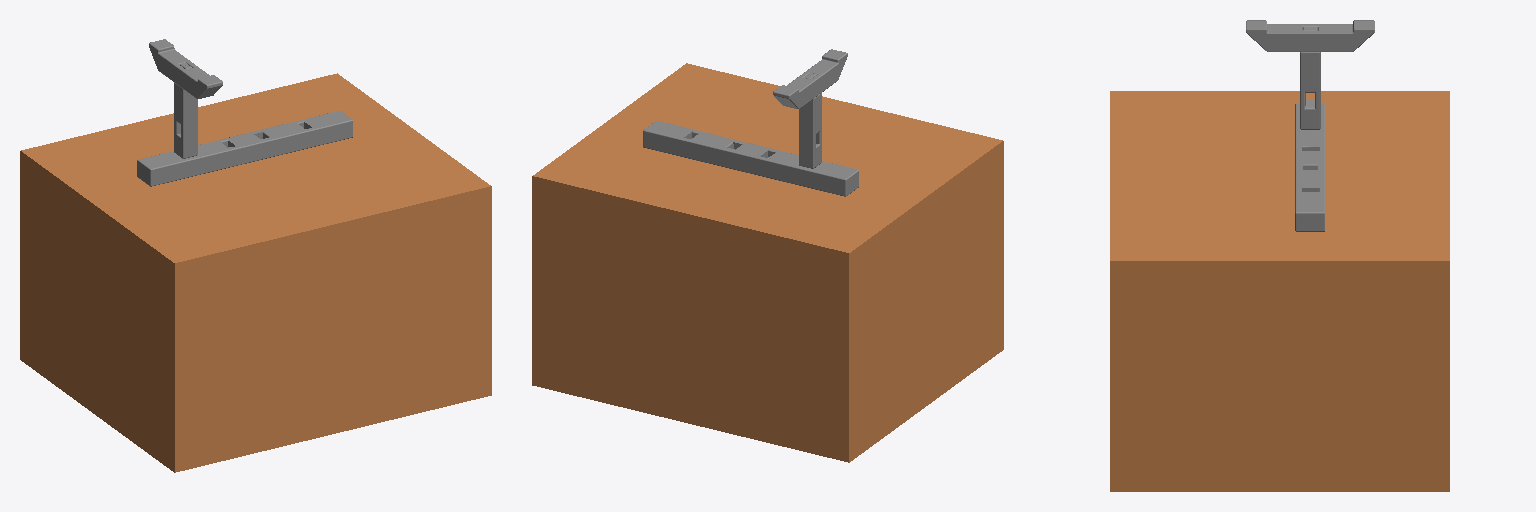
robot.urdf — table_beam_2x_3_scene_0057:
<?xml version="1.0"?>
<robot name="table_beam_2x_3_scene_0057">
  <link name="box">
    <visual>
      <material name="wood"><color rgba="0.82 0.56 0.35 1.0"/></material>
      <origin xyz="0 0 0"/>
      <geometry><box size="0.475 0.4 0.3"/></geometry>
    </visual>
    <collision>
      <origin xyz="0 0 0"/>
      <geometry><box size="0.475 0.4 0.3"/></geometry>
    </collision>
    <inertial>
      <mass value="500"/>
      <friction value="1.0"/>
      <inertia ixx="1000.0" ixy="0.0" ixz="0.0" iyy="1000.0" iyz="0.0" izz="1000.0"/>
    </inertial>
  </link>
  <link name="part_6_hull_0">
    <visual>
      <origin xyz="0 0 0" rpy="0 0 0"/>
      <geometry><mesh filename="../../6/coacd/decomp_0.obj" scale="1 1 1"/></geometry>
      <material name="placed_0"><color rgba="0.6 0.6 0.6 1.0"/></material>
    </visual>
    <collision>
      <origin xyz="0 0 0" rpy="0 0 0"/>
      <geometry><mesh filename="../../6/coacd/decomp_0.obj" scale="1 1 1"/></geometry>
    </collision>
  </link>
  <joint name="part_6_hull_0_joint" type="fixed">
    <parent link="box"/>
    <child link="part_6_hull_0"/>
    <origin xyz="0.004674 0.035777 0.162666" rpy="0.000000 0.000000 0.000000"/>
  </joint>
  <link name="part_6_hull_1">
    <visual>
      <origin xyz="0 0 0" rpy="0 0 0"/>
      <geometry><mesh filename="../../6/coacd/decomp_1.obj" scale="1 1 1"/></geometry>
      <material name="placed_1"><color rgba="0.6 0.6 0.6 1.0"/></material>
    </visual>
    <collision>
      <origin xyz="0 0 0" rpy="0 0 0"/>
      <geometry><mesh filename="../../6/coacd/decomp_1.obj" scale="1 1 1"/></geometry>
    </collision>
  </link>
  <joint name="part_6_hull_1_joint" type="fixed">
    <parent link="box"/>
    <child link="part_6_hull_1"/>
    <origin xyz="0.004674 0.035777 0.162666" rpy="0.000000 0.000000 0.000000"/>
  </joint>
  <link name="part_6_hull_2">
    <visual>
      <origin xyz="0 0 0" rpy="0 0 0"/>
      <geometry><mesh filename="../../6/coacd/decomp_10.obj" scale="1 1 1"/></geometry>
      <material name="placed_2"><color rgba="0.6 0.6 0.6 1.0"/></material>
    </visual>
    <collision>
      <origin xyz="0 0 0" rpy="0 0 0"/>
      <geometry><mesh filename="../../6/coacd/decomp_10.obj" scale="1 1 1"/></geometry>
    </collision>
  </link>
  <joint name="part_6_hull_2_joint" type="fixed">
    <parent link="box"/>
    <child link="part_6_hull_2"/>
    <origin xyz="0.004674 0.035777 0.162666" rpy="0.000000 0.000000 0.000000"/>
  </joint>
  <link name="part_6_hull_3">
    <visual>
      <origin xyz="0 0 0" rpy="0 0 0"/>
      <geometry><mesh filename="../../6/coacd/decomp_11.obj" scale="1 1 1"/></geometry>
      <material name="placed_3"><color rgba="0.6 0.6 0.6 1.0"/></material>
    </visual>
    <collision>
      <origin xyz="0 0 0" rpy="0 0 0"/>
      <geometry><mesh filename="../../6/coacd/decomp_11.obj" scale="1 1 1"/></geometry>
    </collision>
  </link>
  <joint name="part_6_hull_3_joint" type="fixed">
    <parent link="box"/>
    <child link="part_6_hull_3"/>
    <origin xyz="0.004674 0.035777 0.162666" rpy="0.000000 0.000000 0.000000"/>
  </joint>
  <link name="part_6_hull_4">
    <visual>
      <origin xyz="0 0 0" rpy="0 0 0"/>
      <geometry><mesh filename="../../6/coacd/decomp_12.obj" scale="1 1 1"/></geometry>
      <material name="placed_4"><color rgba="0.6 0.6 0.6 1.0"/></material>
    </visual>
    <collision>
      <origin xyz="0 0 0" rpy="0 0 0"/>
      <geometry><mesh filename="../../6/coacd/decomp_12.obj" scale="1 1 1"/></geometry>
    </collision>
  </link>
  <joint name="part_6_hull_4_joint" type="fixed">
    <parent link="box"/>
    <child link="part_6_hull_4"/>
    <origin xyz="0.004674 0.035777 0.162666" rpy="0.000000 0.000000 0.000000"/>
  </joint>
  <link name="part_6_hull_5">
    <visual>
      <origin xyz="0 0 0" rpy="0 0 0"/>
      <geometry><mesh filename="../../6/coacd/decomp_13.obj" scale="1 1 1"/></geometry>
      <material name="placed_5"><color rgba="0.6 0.6 0.6 1.0"/></material>
    </visual>
    <collision>
      <origin xyz="0 0 0" rpy="0 0 0"/>
      <geometry><mesh filename="../../6/coacd/decomp_13.obj" scale="1 1 1"/></geometry>
    </collision>
  </link>
  <joint name="part_6_hull_5_joint" type="fixed">
    <parent link="box"/>
    <child link="part_6_hull_5"/>
    <origin xyz="0.004674 0.035777 0.162666" rpy="0.000000 0.000000 0.000000"/>
  </joint>
  <link name="part_6_hull_6">
    <visual>
      <origin xyz="0 0 0" rpy="0 0 0"/>
      <geometry><mesh filename="../../6/coacd/decomp_2.obj" scale="1 1 1"/></geometry>
      <material name="placed_6"><color rgba="0.6 0.6 0.6 1.0"/></material>
    </visual>
    <collision>
      <origin xyz="0 0 0" rpy="0 0 0"/>
      <geometry><mesh filename="../../6/coacd/decomp_2.obj" scale="1 1 1"/></geometry>
    </collision>
  </link>
  <joint name="part_6_hull_6_joint" type="fixed">
    <parent link="box"/>
    <child link="part_6_hull_6"/>
    <origin xyz="0.004674 0.035777 0.162666" rpy="0.000000 0.000000 0.000000"/>
  </joint>
  <link name="part_6_hull_7">
    <visual>
      <origin xyz="0 0 0" rpy="0 0 0"/>
      <geometry><mesh filename="../../6/coacd/decomp_3.obj" scale="1 1 1"/></geometry>
      <material name="placed_7"><color rgba="0.6 0.6 0.6 1.0"/></material>
    </visual>
    <collision>
      <origin xyz="0 0 0" rpy="0 0 0"/>
      <geometry><mesh filename="../../6/coacd/decomp_3.obj" scale="1 1 1"/></geometry>
    </collision>
  </link>
  <joint name="part_6_hull_7_joint" type="fixed">
    <parent link="box"/>
    <child link="part_6_hull_7"/>
    <origin xyz="0.004674 0.035777 0.162666" rpy="0.000000 0.000000 0.000000"/>
  </joint>
  <link name="part_6_hull_8">
    <visual>
      <origin xyz="0 0 0" rpy="0 0 0"/>
      <geometry><mesh filename="../../6/coacd/decomp_4.obj" scale="1 1 1"/></geometry>
      <material name="placed_8"><color rgba="0.6 0.6 0.6 1.0"/></material>
    </visual>
    <collision>
      <origin xyz="0 0 0" rpy="0 0 0"/>
      <geometry><mesh filename="../../6/coacd/decomp_4.obj" scale="1 1 1"/></geometry>
    </collision>
  </link>
  <joint name="part_6_hull_8_joint" type="fixed">
    <parent link="box"/>
    <child link="part_6_hull_8"/>
    <origin xyz="0.004674 0.035777 0.162666" rpy="0.000000 0.000000 0.000000"/>
  </joint>
  <link name="part_6_hull_9">
    <visual>
      <origin xyz="0 0 0" rpy="0 0 0"/>
      <geometry><mesh filename="../../6/coacd/decomp_5.obj" scale="1 1 1"/></geometry>
      <material name="placed_9"><color rgba="0.6 0.6 0.6 1.0"/></material>
    </visual>
    <collision>
      <origin xyz="0 0 0" rpy="0 0 0"/>
      <geometry><mesh filename="../../6/coacd/decomp_5.obj" scale="1 1 1"/></geometry>
    </collision>
  </link>
  <joint name="part_6_hull_9_joint" type="fixed">
    <parent link="box"/>
    <child link="part_6_hull_9"/>
    <origin xyz="0.004674 0.035777 0.162666" rpy="0.000000 0.000000 0.000000"/>
  </joint>
  <link name="part_6_hull_10">
    <visual>
      <origin xyz="0 0 0" rpy="0 0 0"/>
      <geometry><mesh filename="../../6/coacd/decomp_6.obj" scale="1 1 1"/></geometry>
      <material name="placed_10"><color rgba="0.6 0.6 0.6 1.0"/></material>
    </visual>
    <collision>
      <origin xyz="0 0 0" rpy="0 0 0"/>
      <geometry><mesh filename="../../6/coacd/decomp_6.obj" scale="1 1 1"/></geometry>
    </collision>
  </link>
  <joint name="part_6_hull_10_joint" type="fixed">
    <parent link="box"/>
    <child link="part_6_hull_10"/>
    <origin xyz="0.004674 0.035777 0.162666" rpy="0.000000 0.000000 0.000000"/>
  </joint>
  <link name="part_6_hull_11">
    <visual>
      <origin xyz="0 0 0" rpy="0 0 0"/>
      <geometry><mesh filename="../../6/coacd/decomp_7.obj" scale="1 1 1"/></geometry>
      <material name="placed_11"><color rgba="0.6 0.6 0.6 1.0"/></material>
    </visual>
    <collision>
      <origin xyz="0 0 0" rpy="0 0 0"/>
      <geometry><mesh filename="../../6/coacd/decomp_7.obj" scale="1 1 1"/></geometry>
    </collision>
  </link>
  <joint name="part_6_hull_11_joint" type="fixed">
    <parent link="box"/>
    <child link="part_6_hull_11"/>
    <origin xyz="0.004674 0.035777 0.162666" rpy="0.000000 0.000000 0.000000"/>
  </joint>
  <link name="part_6_hull_12">
    <visual>
      <origin xyz="0 0 0" rpy="0 0 0"/>
      <geometry><mesh filename="../../6/coacd/decomp_8.obj" scale="1 1 1"/></geometry>
      <material name="placed_12"><color rgba="0.6 0.6 0.6 1.0"/></material>
    </visual>
    <collision>
      <origin xyz="0 0 0" rpy="0 0 0"/>
      <geometry><mesh filename="../../6/coacd/decomp_8.obj" scale="1 1 1"/></geometry>
    </collision>
  </link>
  <joint name="part_6_hull_12_joint" type="fixed">
    <parent link="box"/>
    <child link="part_6_hull_12"/>
    <origin xyz="0.004674 0.035777 0.162666" rpy="0.000000 0.000000 0.000000"/>
  </joint>
  <link name="part_6_hull_13">
    <visual>
      <origin xyz="0 0 0" rpy="0 0 0"/>
      <geometry><mesh filename="../../6/coacd/decomp_9.obj" scale="1 1 1"/></geometry>
      <material name="placed_13"><color rgba="0.6 0.6 0.6 1.0"/></material>
    </visual>
    <collision>
      <origin xyz="0 0 0" rpy="0 0 0"/>
      <geometry><mesh filename="../../6/coacd/decomp_9.obj" scale="1 1 1"/></geometry>
    </collision>
  </link>
  <joint name="part_6_hull_13_joint" type="fixed">
    <parent link="box"/>
    <child link="part_6_hull_13"/>
    <origin xyz="0.004674 0.035777 0.162666" rpy="0.000000 0.000000 0.000000"/>
  </joint>
  <link name="part_2_canonical">
    <visual>
      <origin xyz="0 0 0" rpy="0 0 0"/>
      <geometry><mesh filename="../../2/2_canonical.obj" scale="1 1 1"/></geometry>
      <material name="placed_14"><color rgba="0.6 0.6 0.6 1.0"/></material>
    </visual>
    <collision>
      <origin xyz="0 0 0" rpy="0 0 0"/>
      <geometry><mesh filename="../../2/2_canonical.obj" scale="1 1 1"/></geometry>
    </collision>
  </link>
  <joint name="part_2_canonical_joint" type="fixed">
    <parent link="box"/>
    <child link="part_2_canonical"/>
    <origin xyz="-0.084253 0.035777 0.225384" rpy="0.000000 -1.570796 0.000000"/>
  </joint>
  <link name="part_0_canonical">
    <visual>
      <origin xyz="0 0 0" rpy="0 0 0"/>
      <geometry><mesh filename="../../0/0_canonical.obj" scale="1 1 1"/></geometry>
      <material name="placed_15"><color rgba="0.6 0.6 0.6 1.0"/></material>
    </visual>
    <collision>
      <origin xyz="0 0 0" rpy="0 0 0"/>
      <geometry><mesh filename="../../0/0_canonical.obj" scale="1 1 1"/></geometry>
    </collision>
  </link>
  <joint name="part_0_canonical_joint" type="fixed">
    <parent link="box"/>
    <child link="part_0_canonical"/>
    <origin xyz="-0.084226 0.035777 0.292243" rpy="1.570796 0.000000 -1.570796"/>
  </joint>
</robot>

--- Render facts (derived) ---
Views: 3 orthographic renders of the robot side by side, from view 1: azimuth 30°, elevation 25°; view 2: azimuth 150°, elevation 25°; view 3: azimuth 270°, elevation 25°.
Model table_beam_2x_3_scene_0057 with 17 links and 16 joints (16 fixed), rooted at box, posed every joint at zero.
Visible links, largest first — view 1: box, part_0_canonical, part_2_canonical, part_6_hull_1, part_6_hull_0, part_6_hull_9, part_6_hull_5, part_6_hull_3; view 2: box, part_0_canonical, part_2_canonical, part_6_hull_1, part_6_hull_0, part_6_hull_2, part_6_hull_5, part_6_hull_12; view 3: box, part_0_canonical, part_2_canonical, part_6_hull_0.
Link boxes in pixels (x1=…): box: x1=20, y1=73, x2=491, y2=472; part_0_canonical: x1=149, y1=39, x2=222, y2=98; part_2_canonical: x1=174, y1=63, x2=197, y2=158; part_6_hull_1: x1=137, y1=151, x2=188, y2=186; part_6_hull_0: x1=303, y1=111, x2=352, y2=146; part_6_hull_9: x1=187, y1=146, x2=238, y2=176; part_6_hull_5: x1=269, y1=122, x2=307, y2=154; part_6_hull_3: x1=240, y1=135, x2=280, y2=163; box: x1=532, y1=63, x2=1003, y2=462; part_0_canonical: x1=773, y1=49, x2=847, y2=108; part_2_canonical: x1=799, y1=73, x2=821, y2=168; part_6_hull_1: x1=807, y1=161, x2=858, y2=196; part_6_hull_0: x1=643, y1=121, x2=693, y2=156; part_6_hull_2: x1=765, y1=153, x2=801, y2=185; part_6_hull_5: x1=688, y1=132, x2=727, y2=164; part_6_hull_12: x1=715, y1=145, x2=755, y2=173; box: x1=1110, y1=91, x2=1449, y2=491; part_0_canonical: x1=1246, y1=20, x2=1374, y2=51; part_2_canonical: x1=1300, y1=27, x2=1320, y2=129; part_6_hull_0: x1=1295, y1=192, x2=1324, y2=231.
Bounding box of the posed robot: 0.475 × 0.4 × 0.4575 m (x, y, z).
Meshes: 16 distinct files referenced, 16 mesh visuals loaded (16 OBJ).
